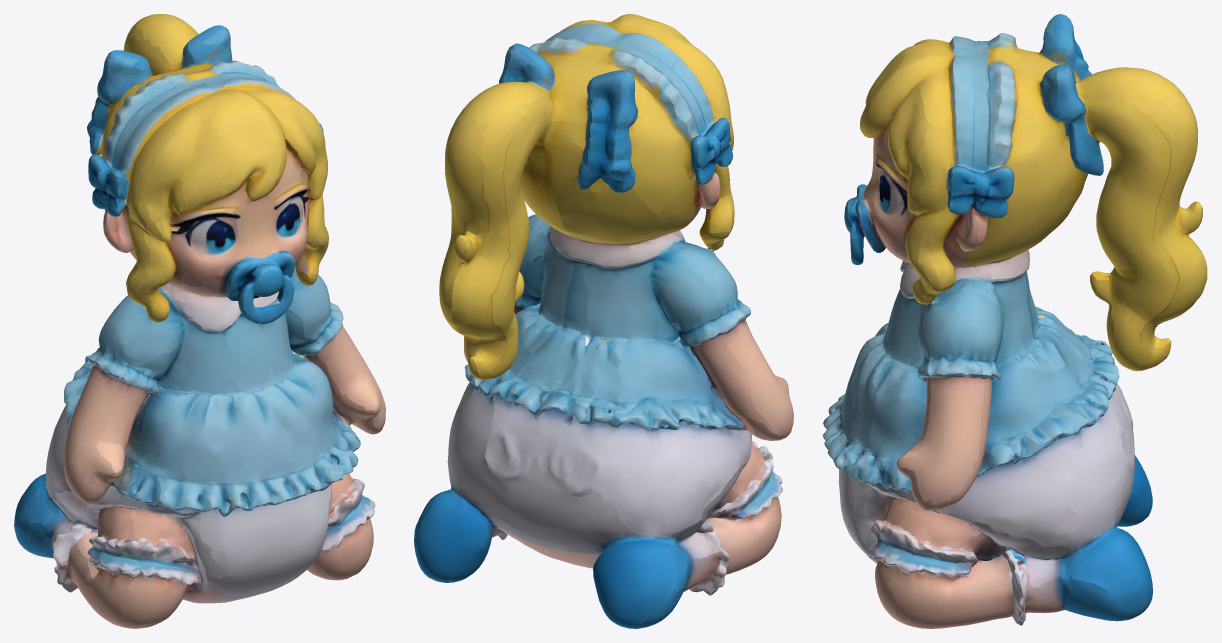
Rendered from blondiedoll.glb.
The picture shows the model from 3 angles, left to right: view 1: azimuth 30°, elevation 25°; view 2: azimuth 150°, elevation 25°; view 3: azimuth 270°, elevation 25°; orthographic projection. The views are drawn at different scales.
Visible parts, largest first — view 1: temp_mesh.ply; view 2: temp_mesh.ply; view 3: temp_mesh.ply.
Boxes of the visible parts, x1,y1,x2,y2 form: temp_mesh.ply: (14,14,385,628); temp_mesh.ply: (414,14,793,628); temp_mesh.ply: (822,14,1207,628).
Bounding box in the file's own units: 1.26 × 1.97 × 1.3.
Materials: 1 (1 with a texture image).
